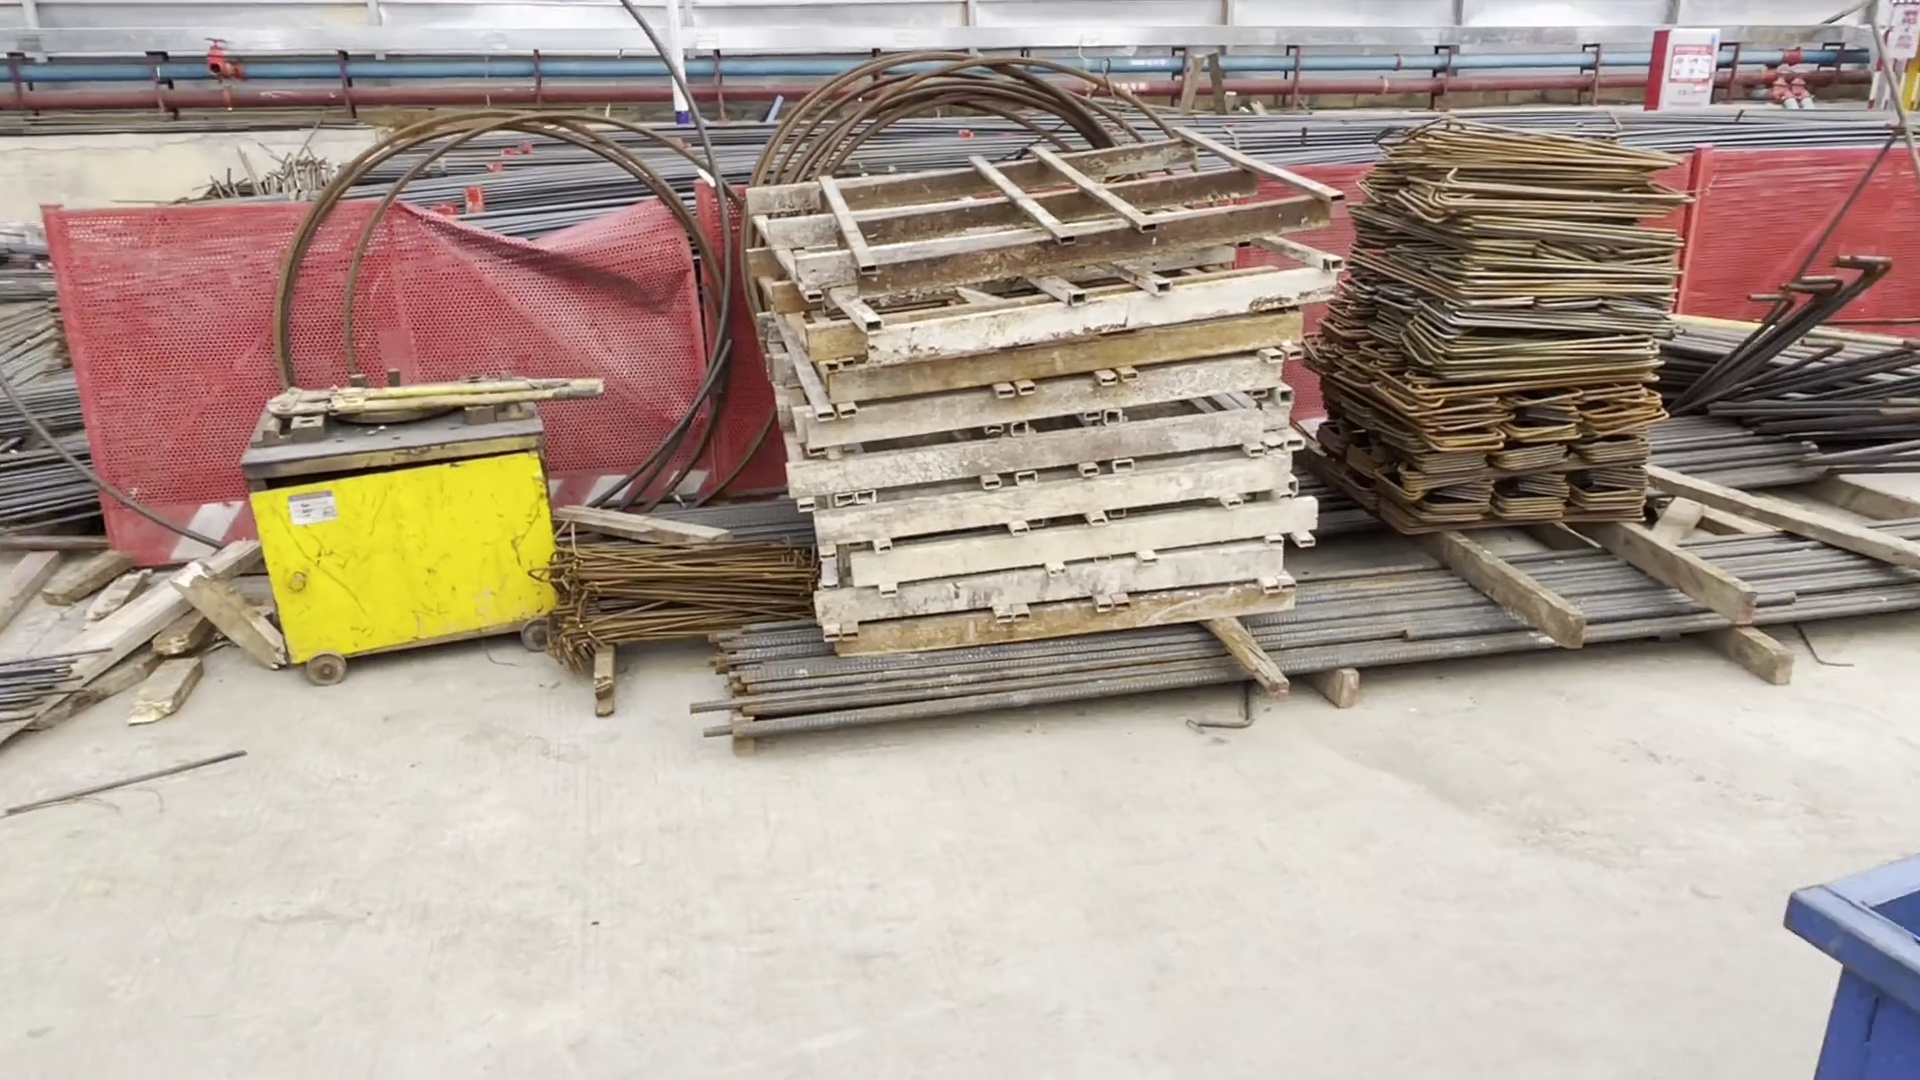hopper: (1797, 825, 1920, 1076)
rebar: (709, 531, 1920, 736)
